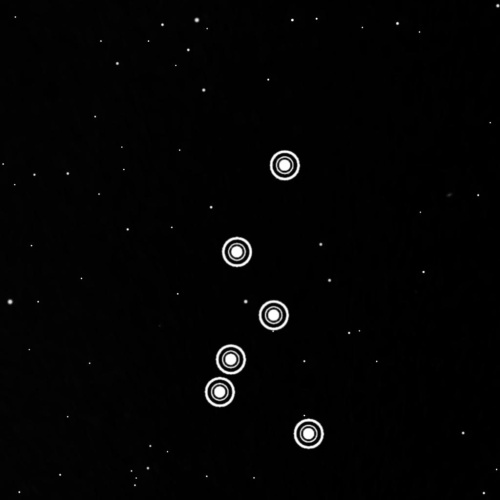cassiopeia: (195, 141, 329, 454)
